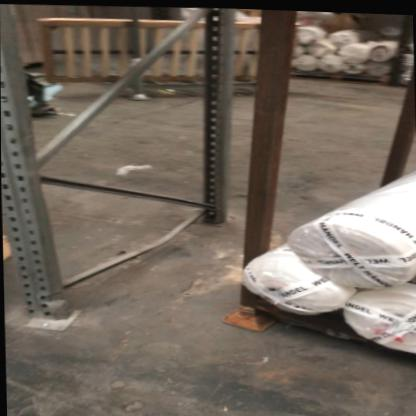vertical_damage: (19, 269, 93, 329)
